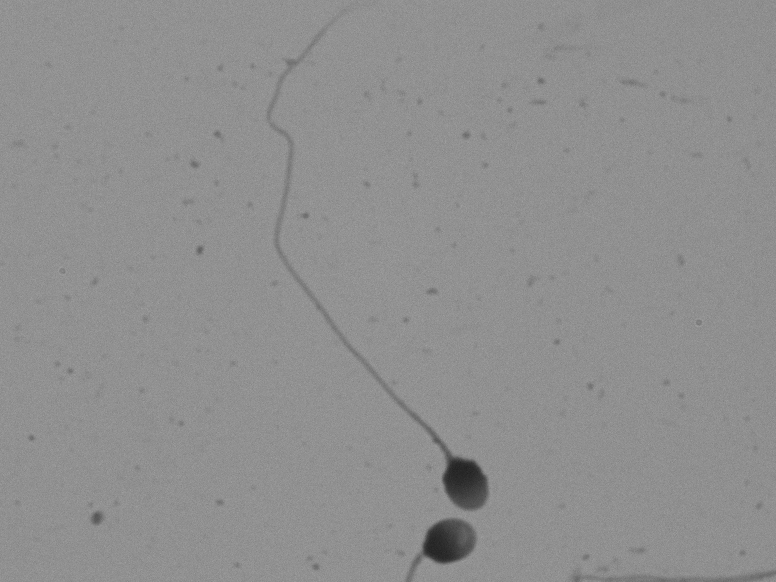Normal: (216, 15, 564, 517)
